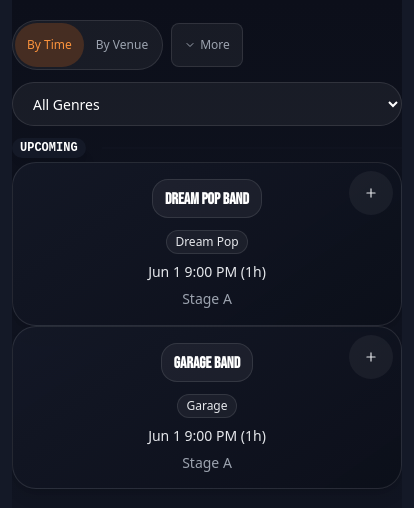
ScheduleView — P2: copy action respects visible filters › filters the visible lineup from the mobile genre select
Select "Garage" in the dropdown named "Genre filter" at (207, 104), box 12,82 -> 402,126
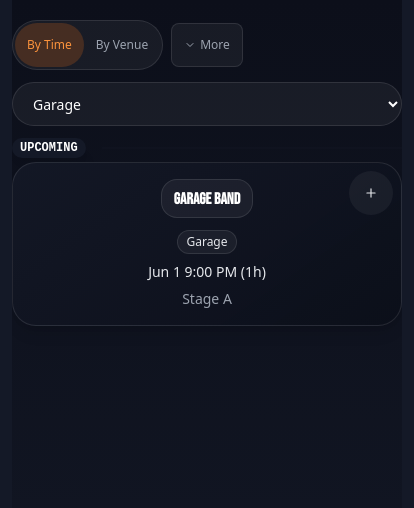
Expected: the link "Garage Band" is shown, 174,190 -> 240,209
Expected: the link "Dream Pop Band" is gone
